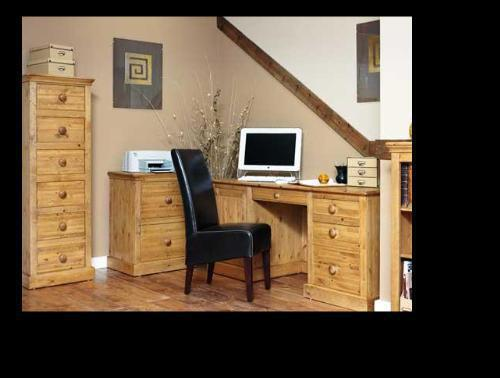Armario: (29, 75, 95, 283)
